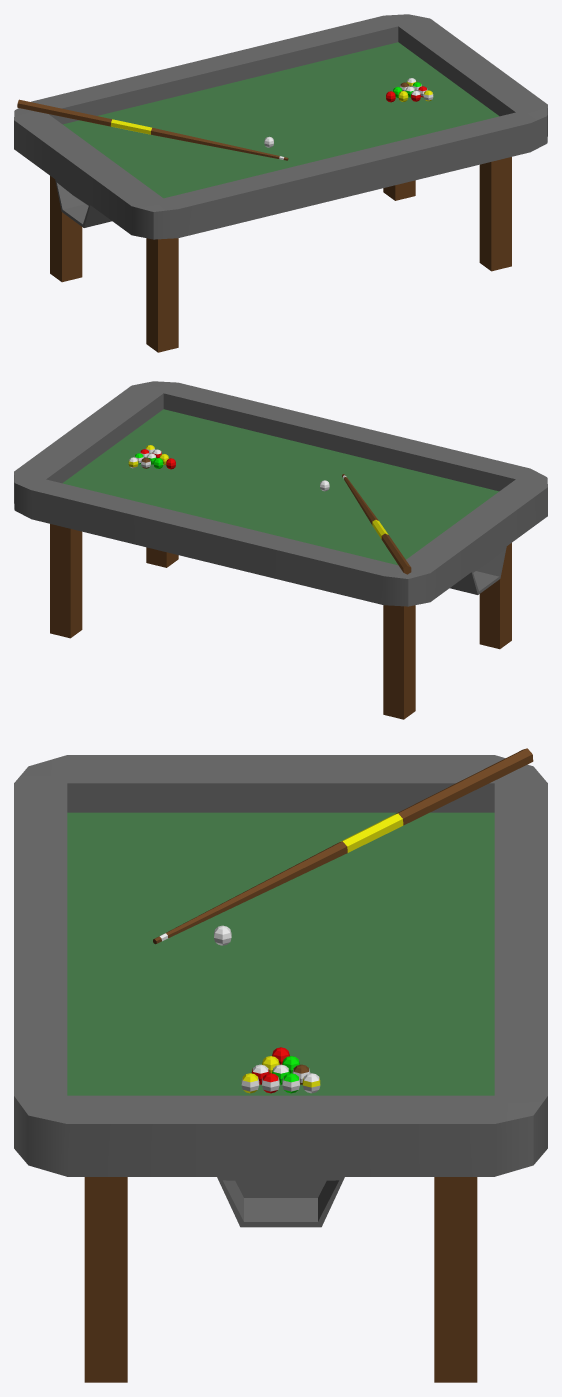
File: billiard table_export.fbx
3 views of the same model, one above another, from view 1: azimuth 30°, elevation 25°; view 2: azimuth 150°, elevation 25°; view 3: azimuth 270°, elevation 25° (orthographic). The views are drawn at different scales.
Parts seen in each view (by area): view 1: billiard_table_set_001; view 2: billiard_table_set_001; view 3: billiard_table_set_001.
Part boxes in pixels (bbox=[...]): billiard_table_set_001: bbox=[14, 14, 547, 352]; billiard_table_set_001: bbox=[14, 381, 547, 719]; billiard_table_set_001: bbox=[14, 748, 547, 1382].
Bounding box in the file's own units: 14.99 × 5.79 × 9.17.
